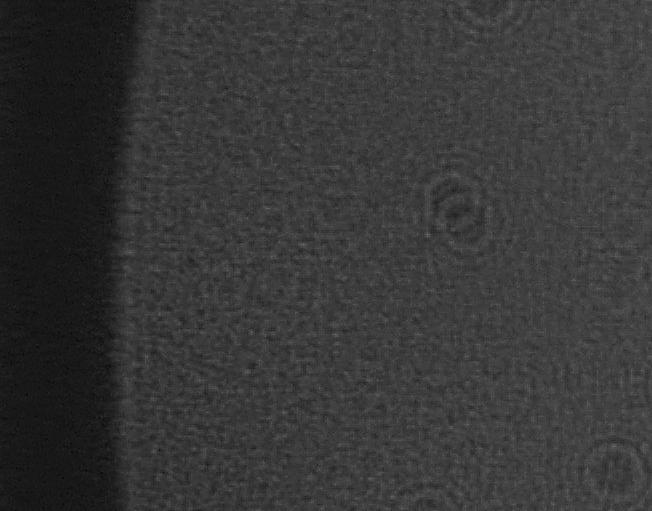bead: (390, 147, 503, 236), (432, 193, 532, 276), (561, 420, 652, 511), (445, 0, 532, 49), (372, 475, 474, 511)
